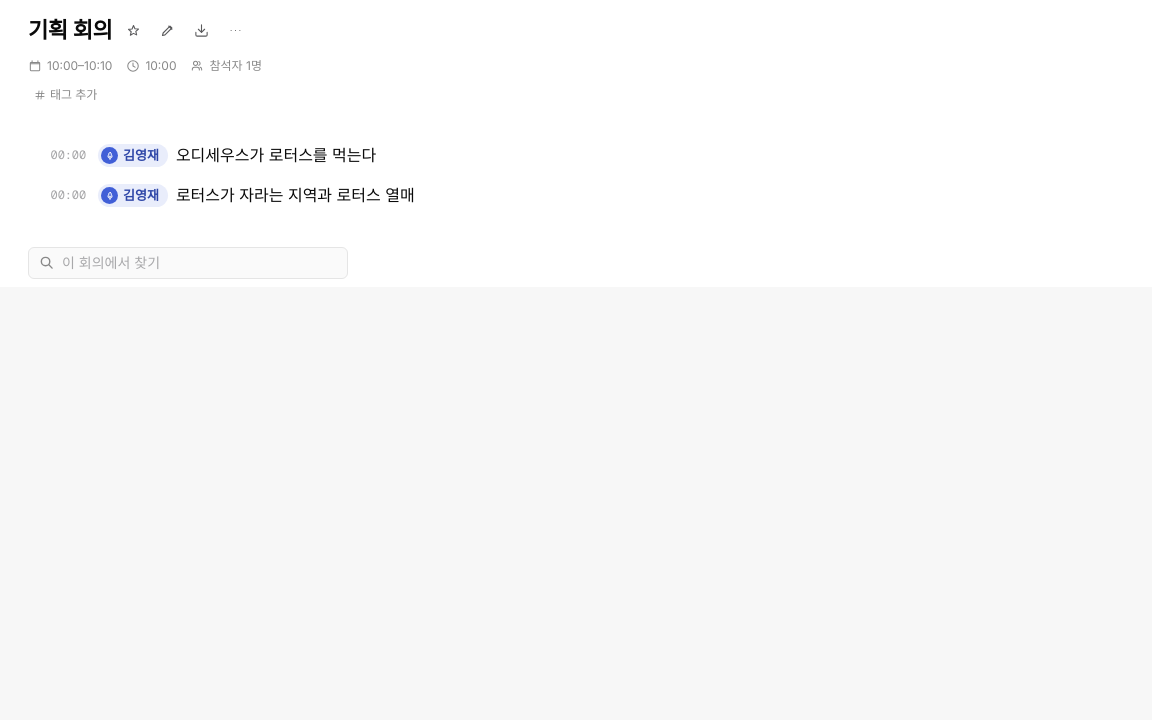
Test: 내보내기 버튼은 done 회의에만 뜨고 누르면 다이얼로그가 열린다
The width and height of the screenshot is (1152, 720).
Click the button named "내보내기": [201, 30] box 188,18 -> 214,44
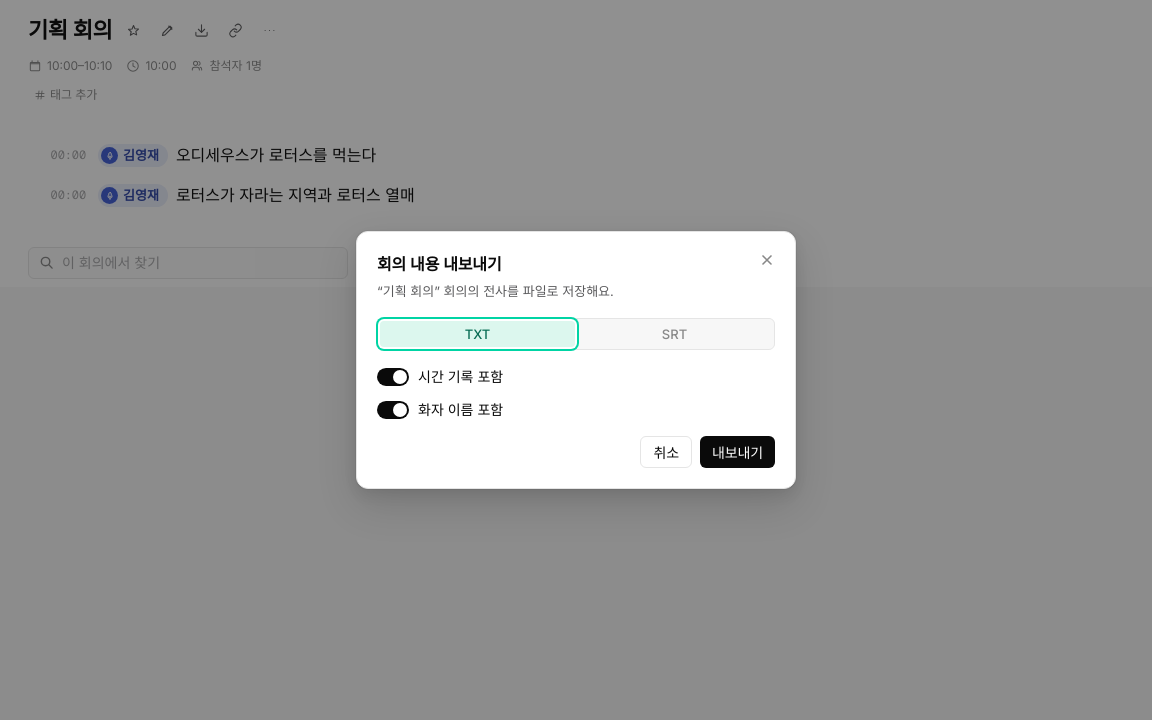
Result: the dialog "회의 내용 내보내기" is shown at 356,231 -> 796,489
